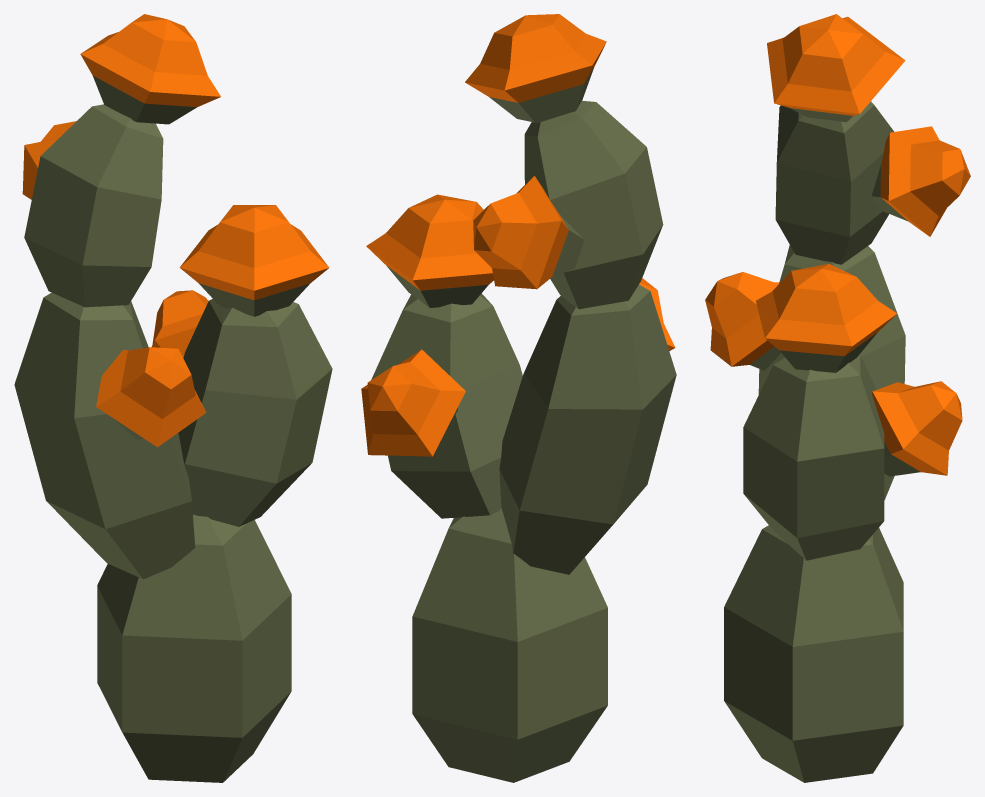
File: worlds_SM_Env_Plant_Cactus_01.gltf
The picture shows the model from 3 angles, left to right: view 1: azimuth 30°, elevation 25°; view 2: azimuth 150°, elevation 25°; view 3: azimuth 270°, elevation 25°; orthographic projection. The views are drawn at different scales.
Visible parts, largest first — view 1: SM_Env_Plant_Cactus_01; view 2: SM_Env_Plant_Cactus_01; view 3: SM_Env_Plant_Cactus_01.
Part boxes in pixels (x1,y1,x2,y2): SM_Env_Plant_Cactus_01: (14,14,332,782); SM_Env_Plant_Cactus_01: (361,14,676,782); SM_Env_Plant_Cactus_01: (705,14,970,782).
Size of the model in its own units: 0.9253 by 2.35 by 0.7772.
1 material, 1 textured.
